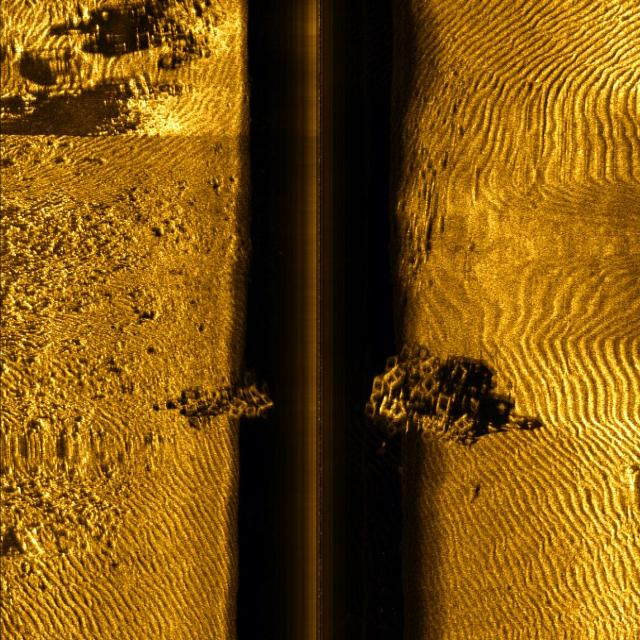artificial reef: (368, 343, 478, 453), (176, 374, 276, 422)
